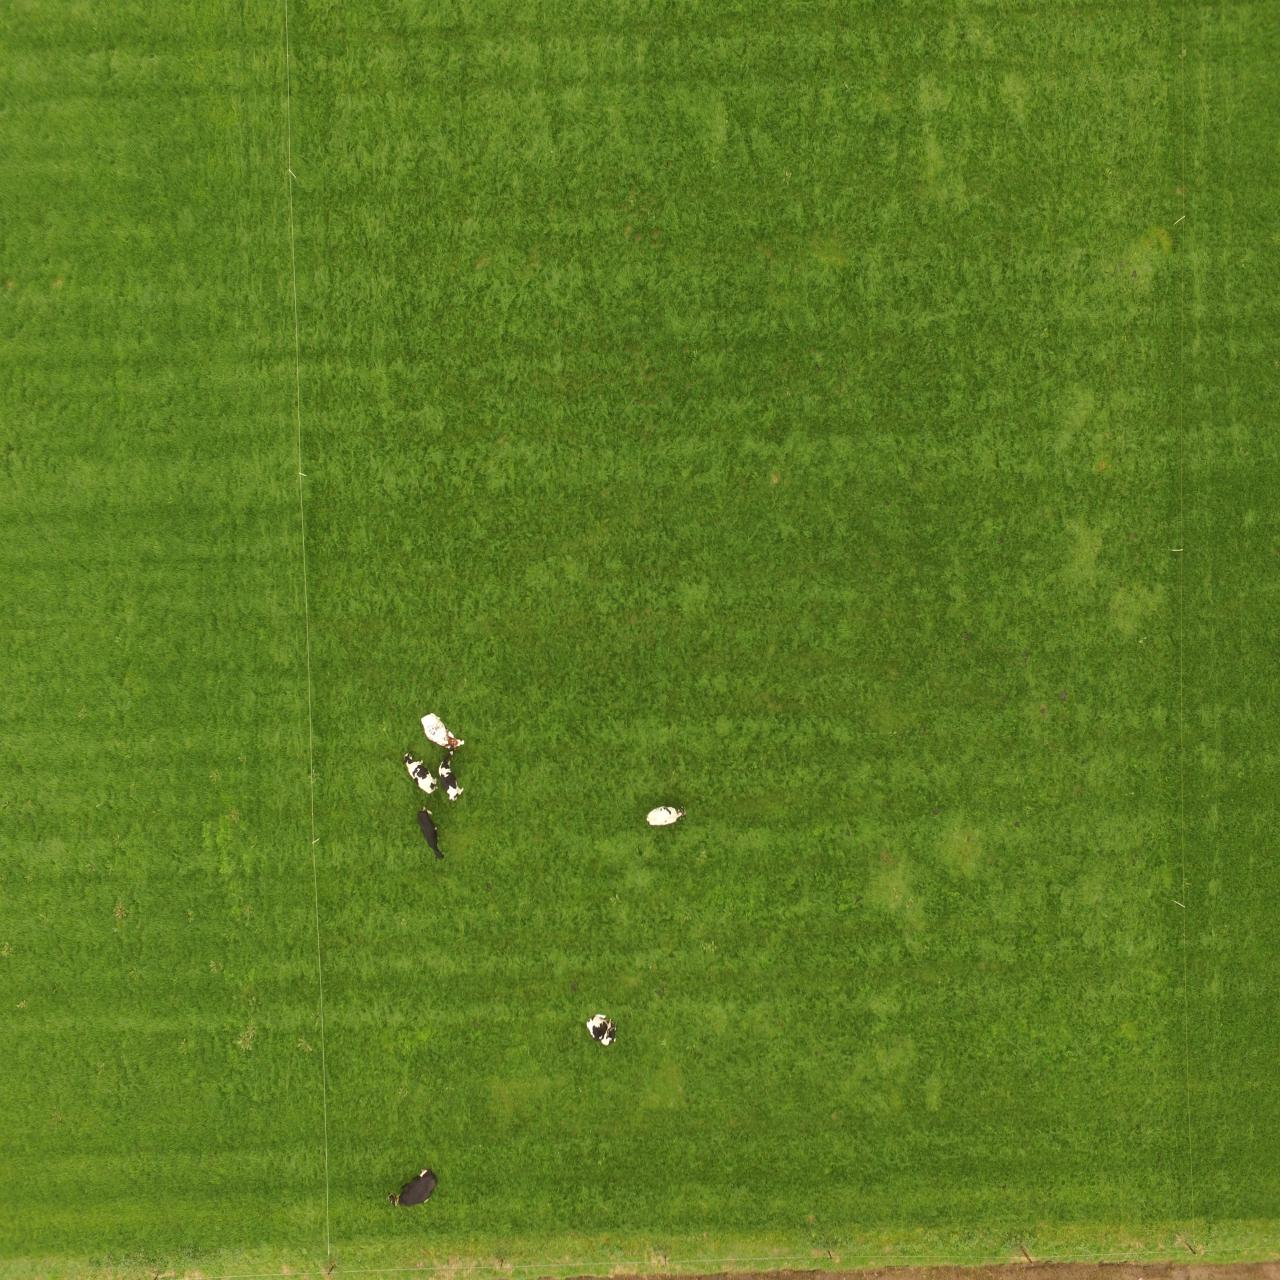cow: (386, 1160, 441, 1217), (411, 806, 448, 872), (418, 707, 469, 748), (399, 747, 434, 798), (443, 750, 470, 805), (586, 1014, 618, 1048), (646, 801, 686, 828)
